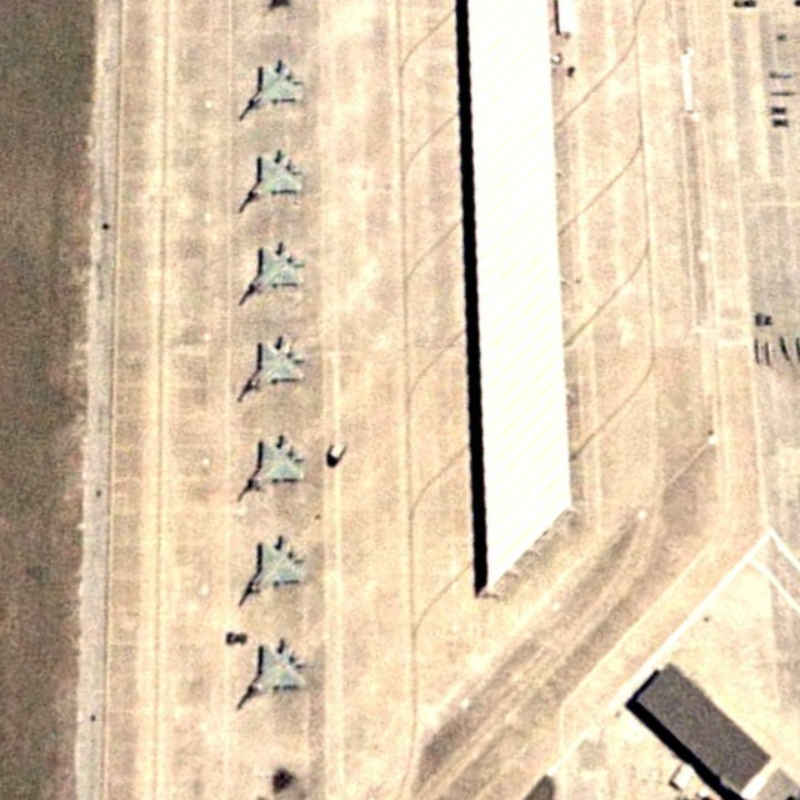A13: (234, 635, 311, 713), (236, 530, 307, 613), (233, 429, 308, 505), (233, 55, 309, 128), (237, 332, 310, 407), (234, 239, 309, 309), (234, 145, 307, 216)
